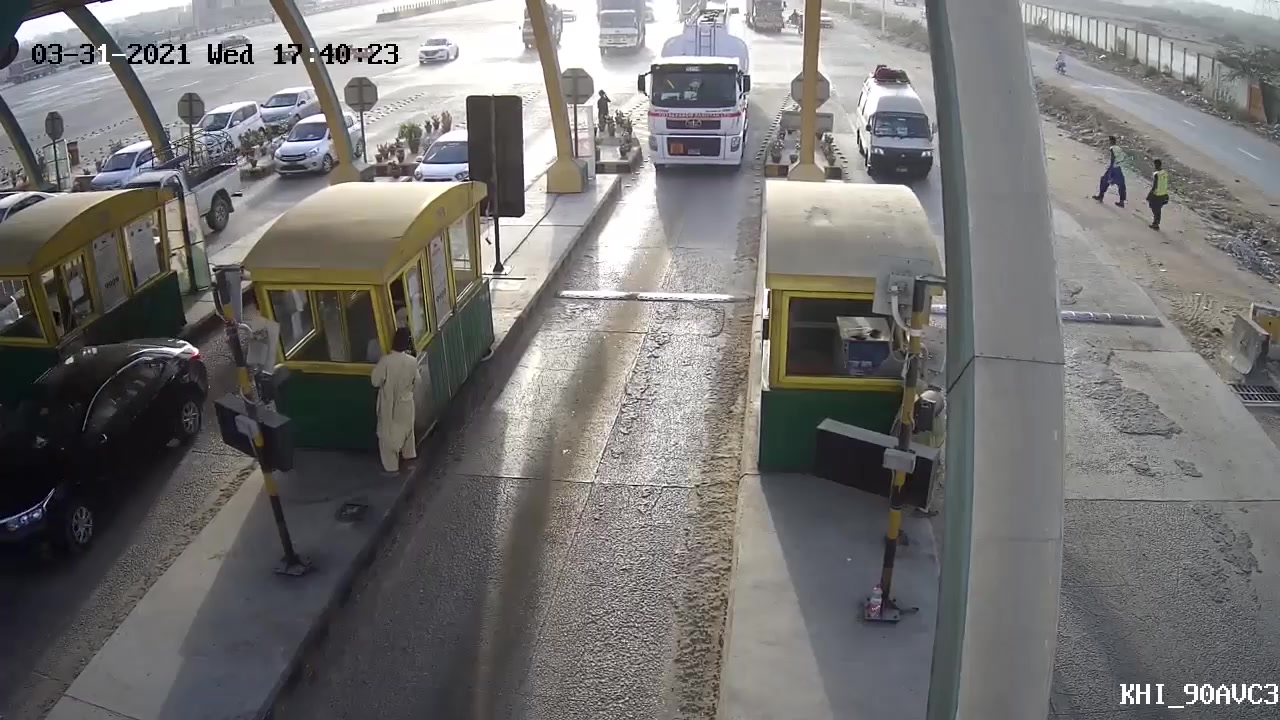F6: (620, 24, 772, 200)
